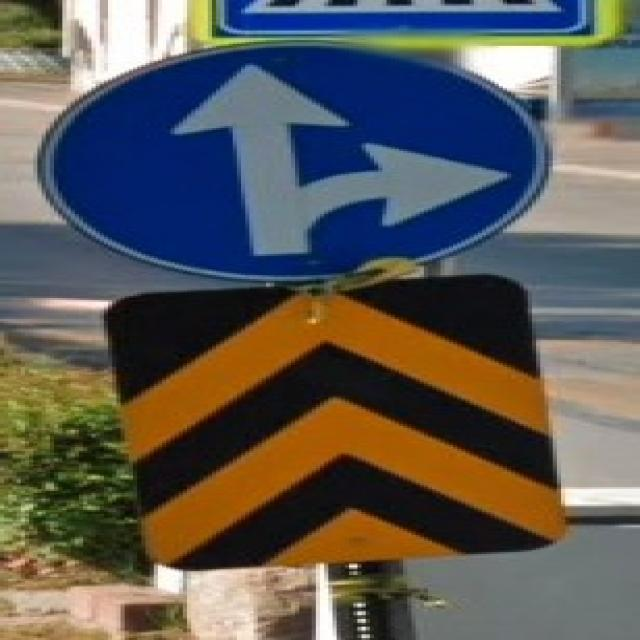Straight or Right: (41, 45, 539, 278)
